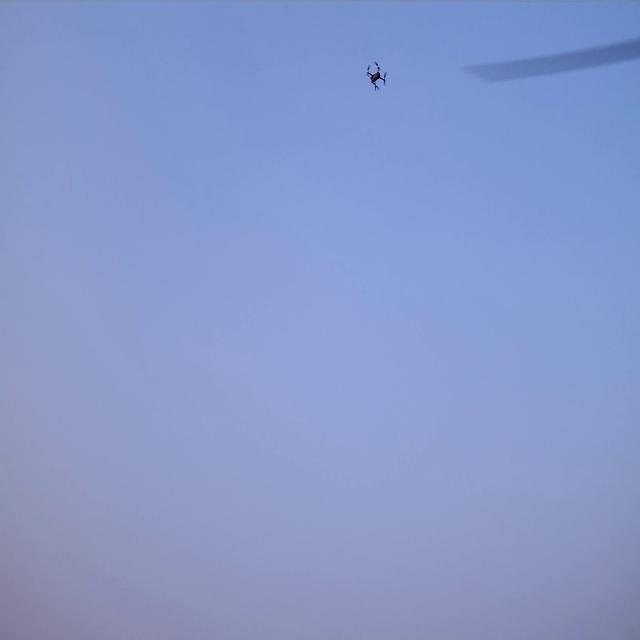UAV: (367, 63, 385, 90)
